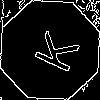K: (25, 25, 81, 75)
